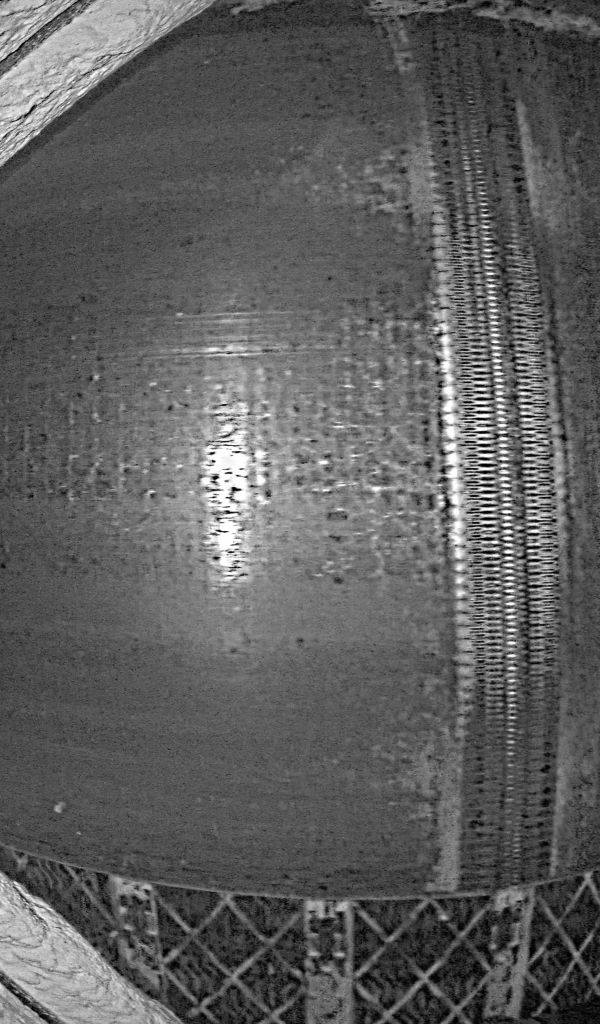splice: (404, 2, 558, 901)
